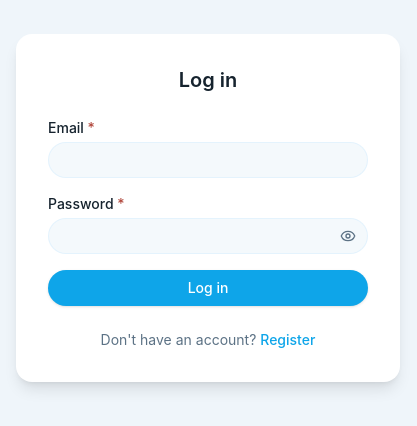
Test: Login › shows the server's error message and stays on the page when login fails
This screenshot has width=417, height=426.
Type "user@example.com" into the field labelled "Email *". click: (208, 160)
box: x1=48 y1=142 x2=368 y2=178
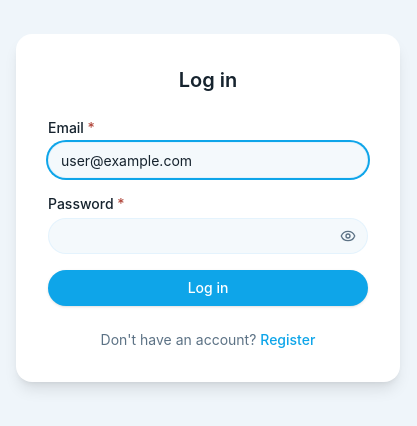
Type "wrong-password" into the password field labelled "Password *". click: (208, 236)
box: x1=48 y1=218 x2=368 y2=254
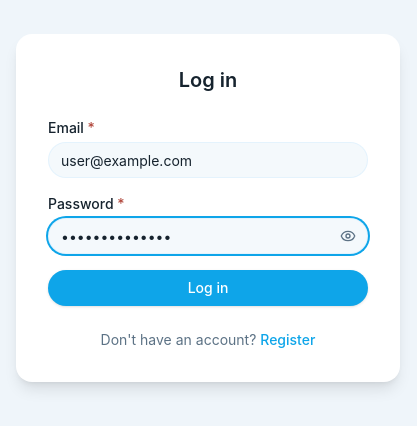
Click the button "Log in". click: click(208, 288)
box: x1=48 y1=270 x2=368 y2=306
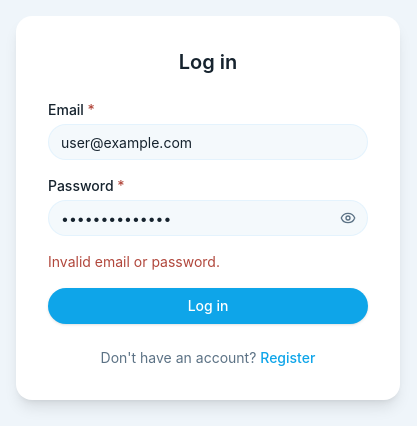
Expected: the button "Log in" is enabled, x1=48 y1=288 x2=368 y2=324
Now the text "Invalid email or password." is shown, box x1=48 y1=253 x2=220 y2=270
